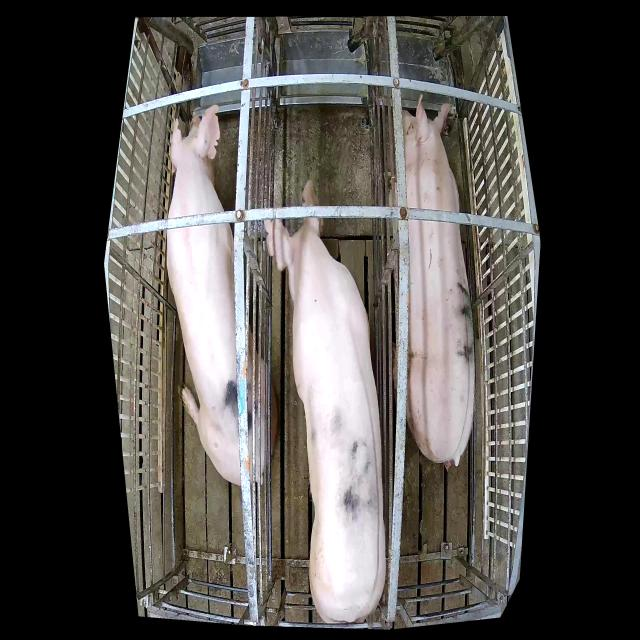pig: (262, 161, 386, 622), (166, 105, 278, 486), (402, 95, 475, 468)
